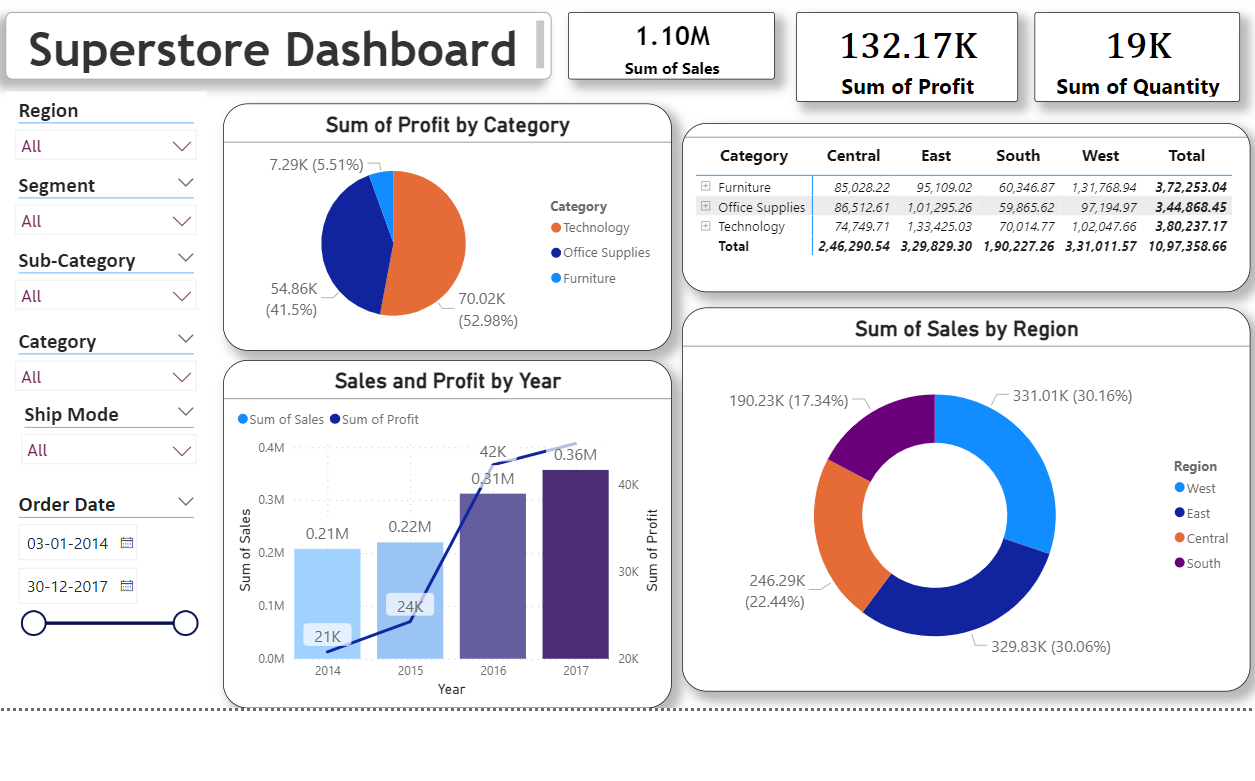

The dashboard page shown, as its layout file describes it:
{"tool":"powerbi","page":{"name":"Overview 2","canvas":[1280,720],"ordinal":1},"visuals":[{"type":"textbox","box":[13.6,18.2,550.7,68.1],"z":0},{"type":"card","fields":{"Values":["Sum(Sample - Superstore.Profit)"]},"box":[811,18.2,223.9,90.8],"z":1000},{"type":"card","fields":{"Values":["Sum(Sample - Superstore.Sales)"]},"box":[581,18.2,208.8,68.1],"z":2000},{"type":"slicer","fields":{"Values":["Sample - Superstore.Region"]},"box":[13.6,98.3,202.7,75.7],"z":3000},{"type":"slicer","fields":{"Values":["Sample - Superstore.Segment"]},"box":[13.6,174,202.7,75.7],"z":4000},{"type":"slicer","fields":{"Values":["Sample - Superstore.Sub-Category"]},"box":[13.6,249.6,202.7,81.7],"z":5000},{"type":"slicer","fields":{"Values":["Sample - Superstore.Order Date"]},"box":[13.6,496.3,202.7,160.4],"z":6000},{"type":"card","fields":{"Values":["Sum(Sample - Superstore.Quantity)"]},"box":[1051.5,18.2,207.3,90.8],"z":7000},{"type":"slicer","fields":{"Values":["Category.Category"]},"box":[13.6,331.3,202.7,74.1],"z":8000},{"type":"pieChart","fields":{"Category":["Category.Category"],"Y":["Sum(Sample - Superstore.Profit)"]},"box":[233,110.4,452.4,249.6],"z":9000},{"type":"slicer","fields":{"Values":["Shipment.Ship Mode"]},"box":[19.7,405.5,196.7,90.8],"z":10000},{"type":"pivotTable","fields":{"Rows":["Category.Category","Category.Sub-Category"],"Values":["Sum(Sample - Superstore.Sales)"],"Columns":["Sample - Superstore.Region"]},"box":[696,130.1,573.4,171],"z":11000},{"type":"lineClusteredColumnComboChart","title":"Sales and Profit by Year","fields":{"Category":["Sample - Superstore.Order Date.Variation.Date Hierarchy.Year","Sample - Superstore.Order Date.Variation.Date Hierarchy.Quarter","Sample - Superstore.Order Date.Variation.Date Hierarchy.Month","Sample - Superstore.Order Date.Variation.Date Hierarchy.Day"],"Y":["Sum(Sample - Superstore.Sales)"],"Y2":["Sum(Sample - Superstore.Profit)"]},"box":[233,369.2,452.4,351],"z":12000},{"type":"donutChart","fields":{"Y":["Sum(Sample - Superstore.Sales)"],"Category":["Sample - Superstore.Region"]},"box":[696,316.2,573.4,387.3],"z":13000}]}

Visuals, with their boxes on the page's 1280x720 design canvas (x1, y1, x2, y2). These are canvas units, not pixel positions in the 1255x781 screenshot, which may show the page scaled, cropped or inside an application window:
textbox: <box>14,18,564,86</box>
card - Sum(Sample - Superstore.Profit): <box>811,18,1035,109</box>
card - Sum(Sample - Superstore.Sales): <box>581,18,790,86</box>
slicer - Sample - Superstore.Region: <box>14,98,216,174</box>
slicer - Sample - Superstore.Segment: <box>14,174,216,250</box>
slicer - Sample - Superstore.Sub-Category: <box>14,250,216,331</box>
slicer - Sample - Superstore.Order Date: <box>14,496,216,657</box>
card - Sum(Sample - Superstore.Quantity): <box>1052,18,1259,109</box>
slicer - Category.Category: <box>14,331,216,405</box>
pieChart - Category.Category x Sum(Sample - Superstore.Profit): <box>233,110,685,360</box>
slicer - Shipment.Ship Mode: <box>20,406,216,496</box>
pivotTable - Category.Category x Category.Sub-Category: <box>696,130,1269,301</box>
"Sales and Profit by Year" lineClusteredColumnComboChart: <box>233,369,685,720</box>
donutChart - Sum(Sample - Superstore.Sales) x Sample - Superstore.Region: <box>696,316,1269,704</box>
